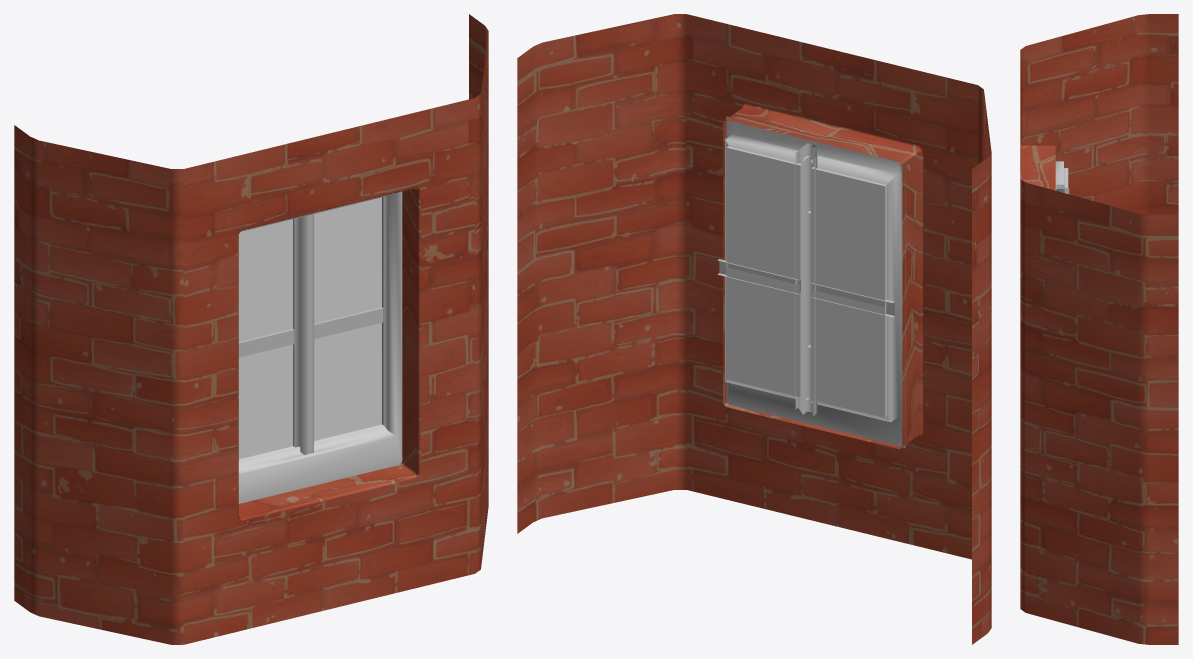
Rendered from Window_07.fbx.
3 views of the same model, side by side, from view 1: azimuth 30°, elevation 25°; view 2: azimuth 150°, elevation 25°; view 3: azimuth 270°, elevation 25° (orthographic). The views are drawn at different scales.
Parts seen in each view (by area): view 1: Window_07; view 2: Window_07; view 3: Window_07.
Boxes of the visible parts, x1,y1,x2,y2 form: Window_07: (14, 14, 488, 644); Window_07: (517, 14, 991, 644); Window_07: (1020, 14, 1178, 644).
Bounding box in the file's own units: 3 × 3 × 1.
